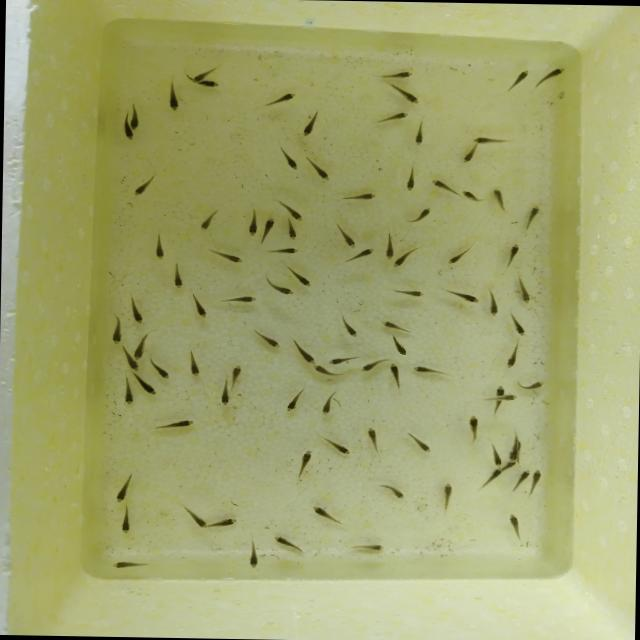fingerling: (389, 244, 416, 272), (278, 196, 308, 221), (290, 337, 316, 364), (182, 504, 209, 530), (252, 329, 282, 352), (478, 464, 504, 490), (134, 170, 162, 194), (534, 66, 566, 86), (384, 90, 424, 106), (272, 534, 304, 554), (506, 68, 532, 92), (136, 372, 160, 398), (186, 294, 210, 320), (373, 318, 410, 334), (205, 246, 241, 262), (286, 264, 312, 286), (120, 349, 144, 372), (305, 157, 330, 179), (510, 467, 531, 493), (446, 286, 480, 302), (503, 437, 523, 464), (168, 258, 186, 288), (270, 88, 298, 107), (194, 210, 218, 232), (334, 188, 377, 200), (428, 178, 460, 194), (224, 294, 256, 310), (185, 347, 202, 377), (335, 226, 358, 248), (285, 386, 307, 409), (296, 448, 314, 476), (300, 114, 320, 139), (463, 413, 480, 442), (373, 68, 414, 80), (307, 503, 334, 521), (409, 431, 432, 452), (279, 146, 299, 170), (439, 481, 456, 509), (166, 80, 180, 114), (159, 414, 193, 428), (244, 541, 261, 569), (386, 358, 401, 389), (382, 108, 411, 124), (375, 487, 408, 501), (445, 246, 468, 266), (131, 334, 147, 362), (524, 202, 541, 228), (384, 230, 397, 264), (508, 317, 528, 339), (209, 515, 238, 530), (328, 438, 352, 456), (110, 480, 128, 504), (358, 358, 382, 376), (518, 285, 536, 309), (148, 236, 166, 260), (471, 134, 514, 144), (339, 317, 360, 337), (460, 144, 481, 164), (410, 208, 431, 228), (245, 208, 259, 238), (264, 280, 294, 294), (118, 506, 131, 537), (152, 362, 172, 382), (392, 336, 412, 356), (122, 372, 134, 405), (504, 243, 521, 266), (489, 187, 506, 210), (260, 213, 275, 239), (414, 364, 453, 374), (130, 300, 146, 324), (348, 248, 375, 262), (502, 511, 520, 532), (312, 363, 341, 376), (109, 559, 150, 568), (531, 468, 544, 496), (366, 427, 381, 451), (520, 376, 544, 391), (284, 220, 301, 241), (109, 317, 122, 344), (263, 246, 298, 256), (353, 542, 388, 552), (404, 163, 416, 192), (218, 382, 231, 408), (506, 344, 520, 368), (322, 393, 338, 414), (461, 188, 485, 202), (490, 442, 502, 470), (393, 288, 428, 297), (328, 354, 356, 365), (200, 76, 222, 90), (494, 392, 517, 404), (414, 121, 427, 142), (129, 103, 139, 130), (231, 363, 245, 382), (488, 294, 498, 319), (189, 72, 206, 84), (118, 127, 134, 139), (492, 383, 506, 395)
